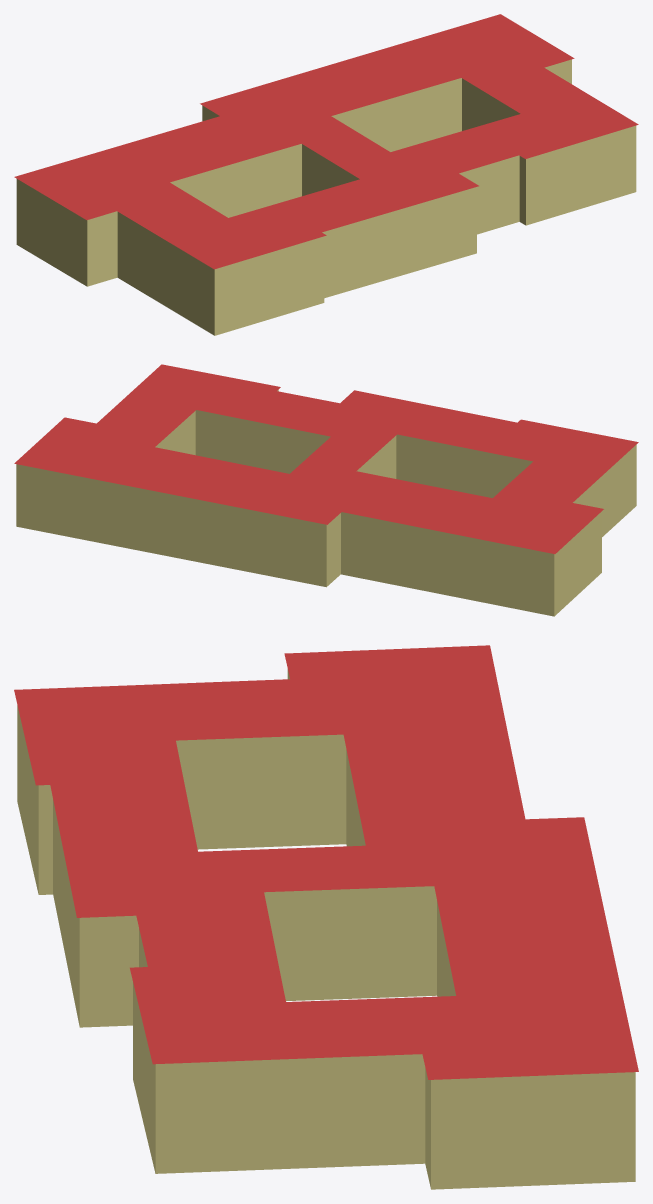
The picture shows the model from 3 angles, top to bottom: view 1: azimuth 30°, elevation 25°; view 2: azimuth 150°, elevation 25°; view 3: azimuth 270°, elevation 25°; orthographic projection. The views are drawn at different scales.
Size of the model in its own units: 82.18 by 49.93 by 9.79.
